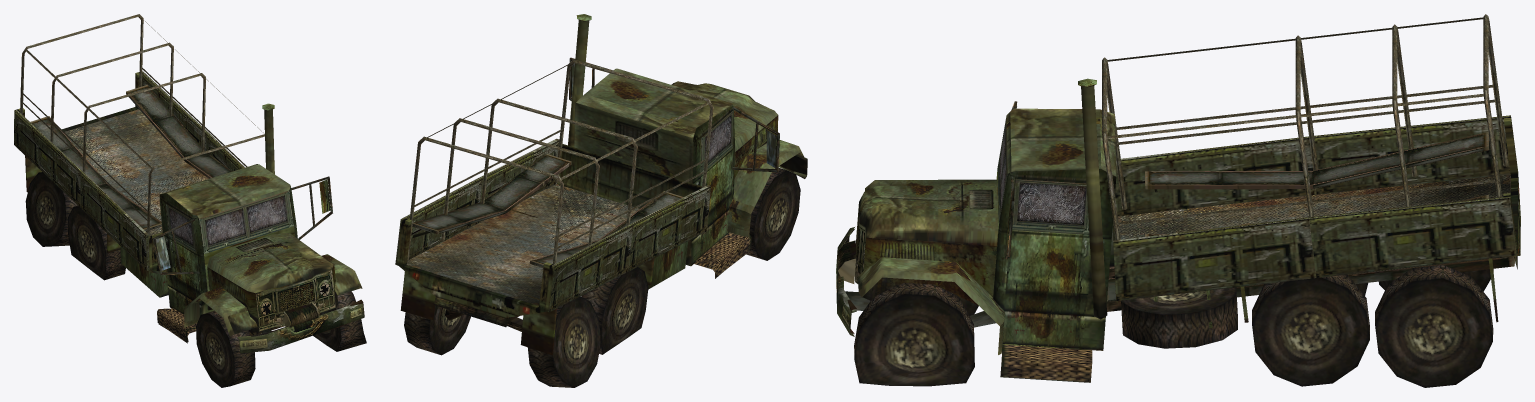
The model's file is F5tonDX.glb.
3 renders of one model, left to right at view 1: azimuth 30°, elevation 25°; view 2: azimuth 150°, elevation 25°; view 3: azimuth 270°, elevation 25°, orthographic. The views are drawn at different scales.
Parts seen in each view (by area): view 1: _F5tonDX; view 2: _F5tonDX; view 3: _F5tonDX.
Boxes of the visible parts, x1,y1,x2,y2 form: _F5tonDX: [14, 14, 366, 387]; _F5tonDX: [395, 14, 807, 387]; _F5tonDX: [836, 14, 1520, 387].
Bounding box in the file's own units: 4.31 × 4.99 × 9.51.
1 material, 1 textured.
